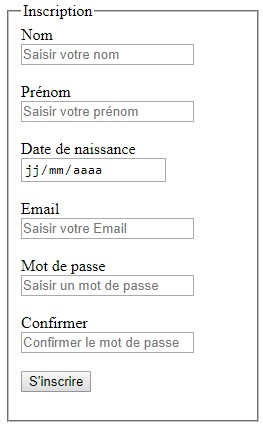_form_: (1, 1, 263, 416)
button: (20, 369, 92, 392)
field: (19, 100, 195, 124), (20, 217, 195, 241), (19, 331, 194, 354), (19, 43, 195, 65), (20, 274, 195, 296), (19, 157, 167, 183)
field_with_label: (17, 85, 196, 126), (17, 315, 196, 356), (17, 27, 196, 67), (18, 202, 196, 242), (18, 258, 196, 298), (17, 142, 169, 185)
